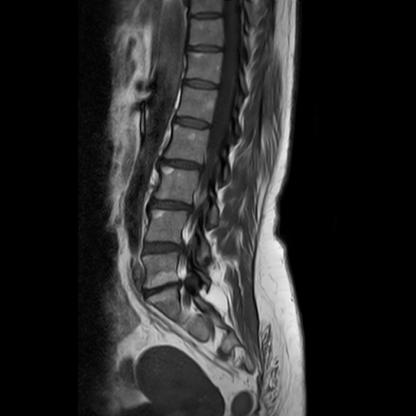Disc Bulgerotation: (141, 240, 183, 259), (141, 281, 181, 298)
